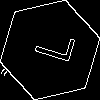L: (25, 25, 76, 65)
